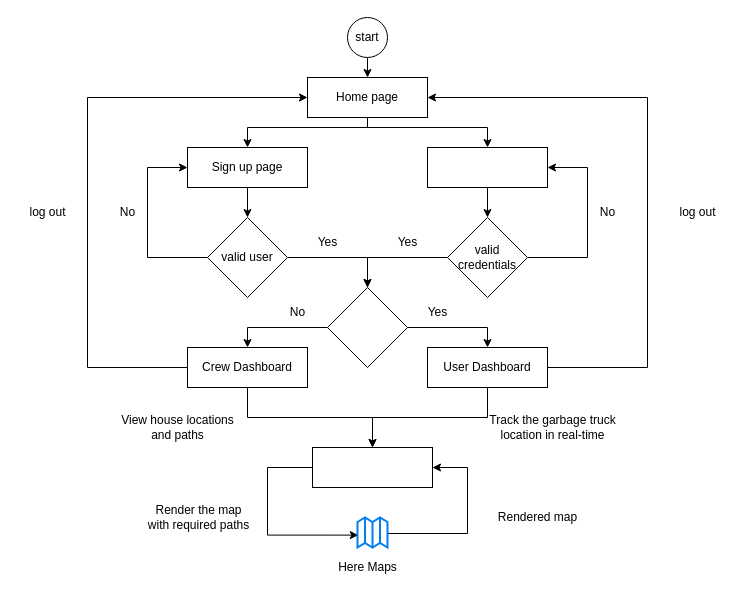
The diagram is 744 pixels wide and 600 high, and some of its shapes have lost their labels. The centre of each missing label's shape, as x and y in pixels:
"is user ?" goes at [367,327].
"Login page" goes at [487,167].
"View Maps" goes at [372,467].
